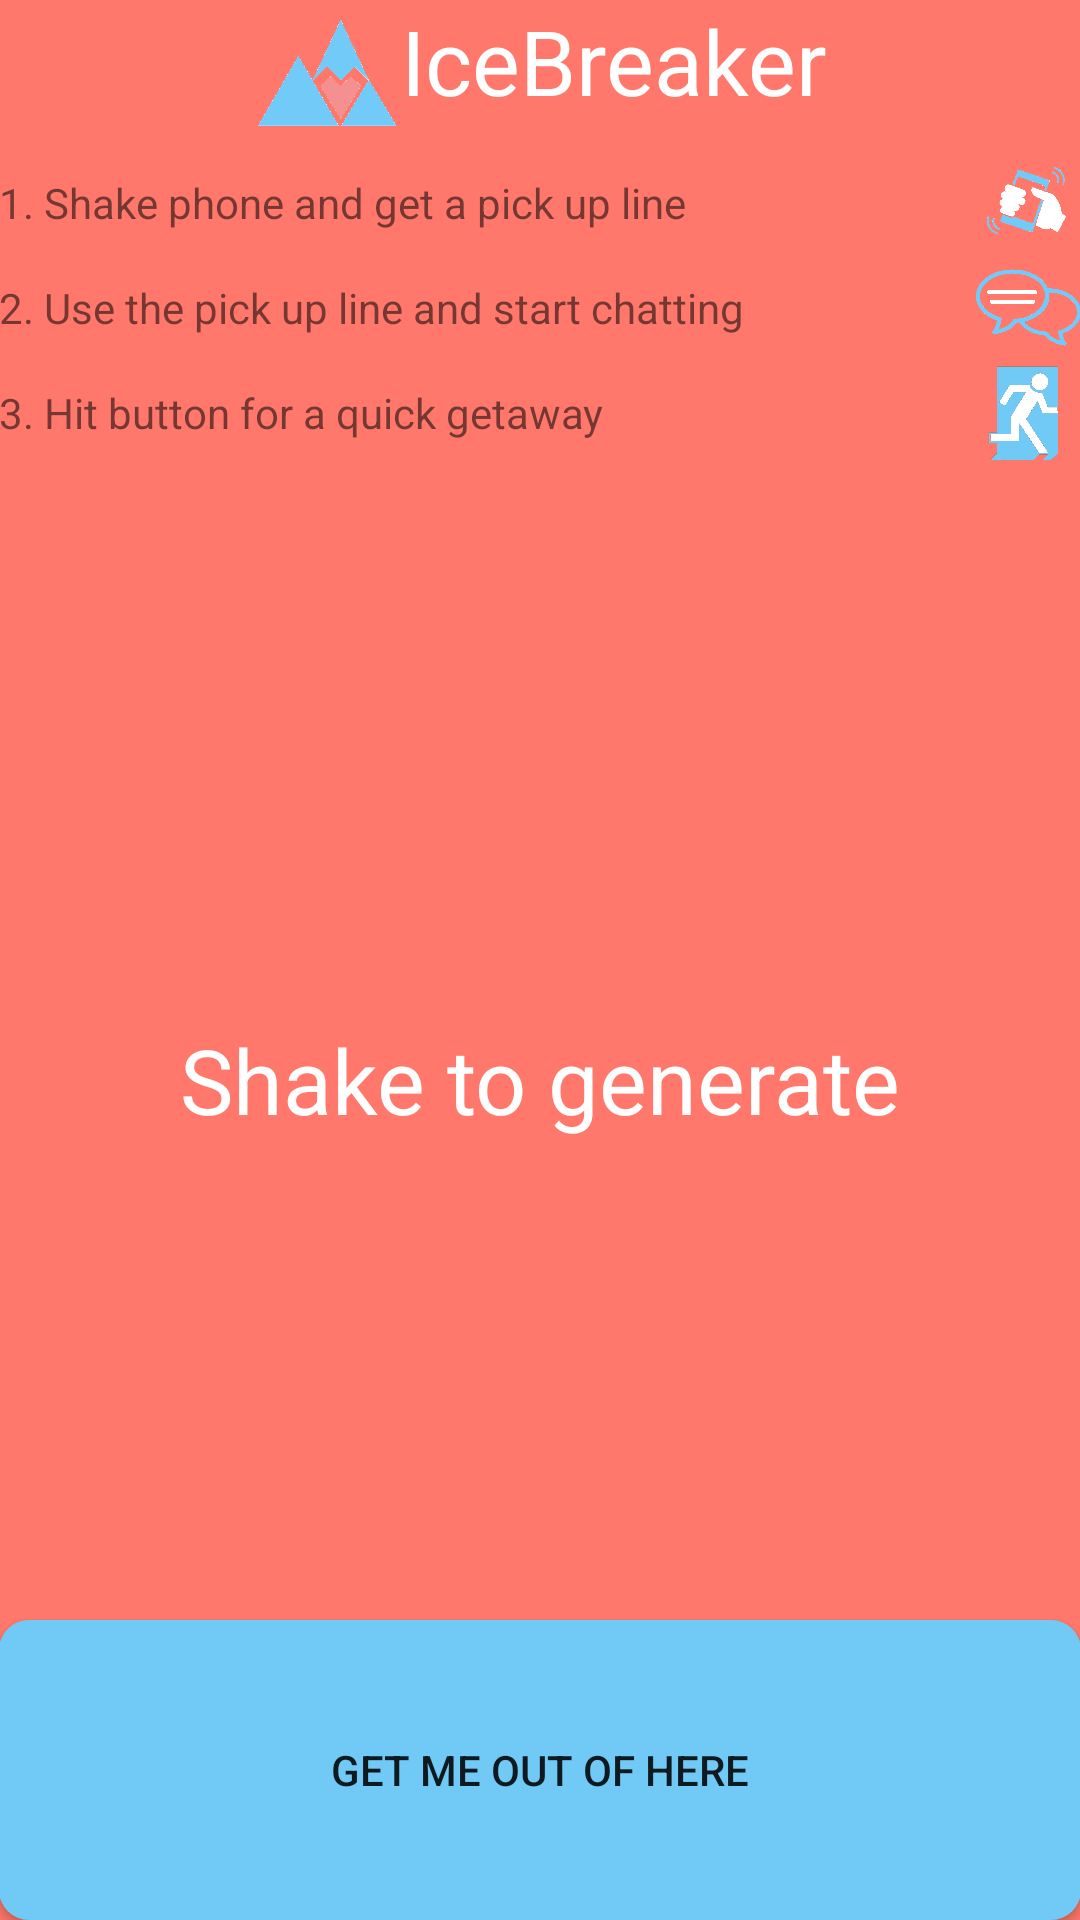

Where to tap for icons on this 1080 × 1920 app screen, as point (x, y):
exit: point (1023, 413)
speech: point (1028, 307)
